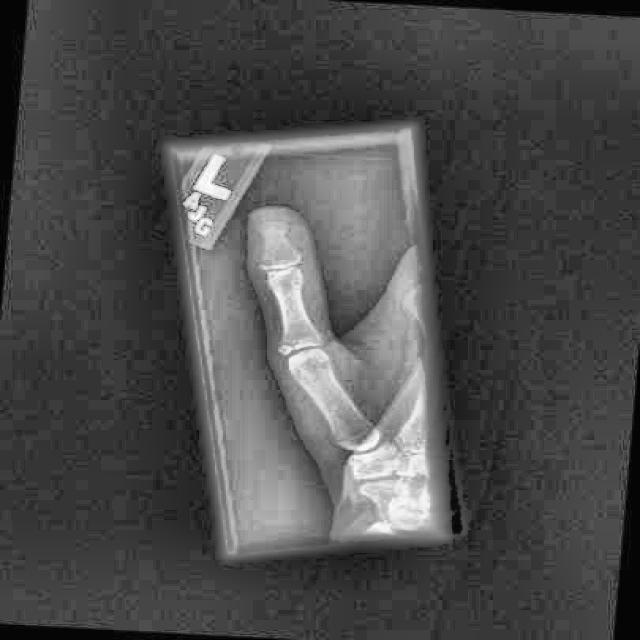fingers positive: (269, 330, 302, 360), (252, 252, 282, 276)
